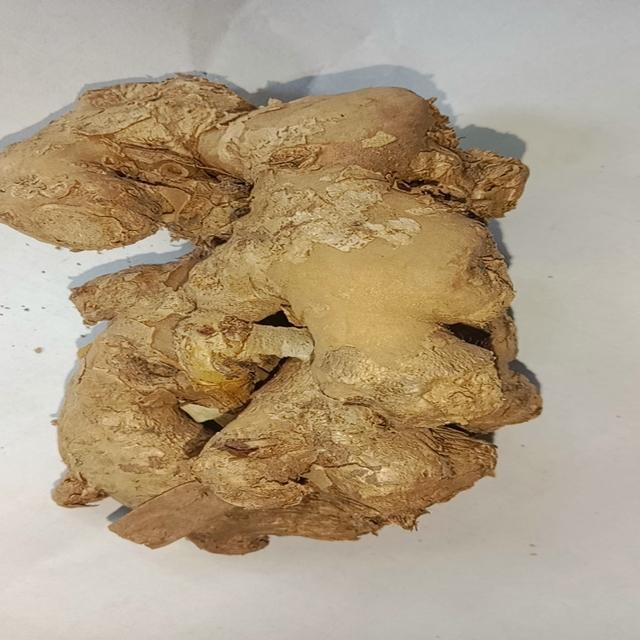ginger: (18, 72, 550, 556)
